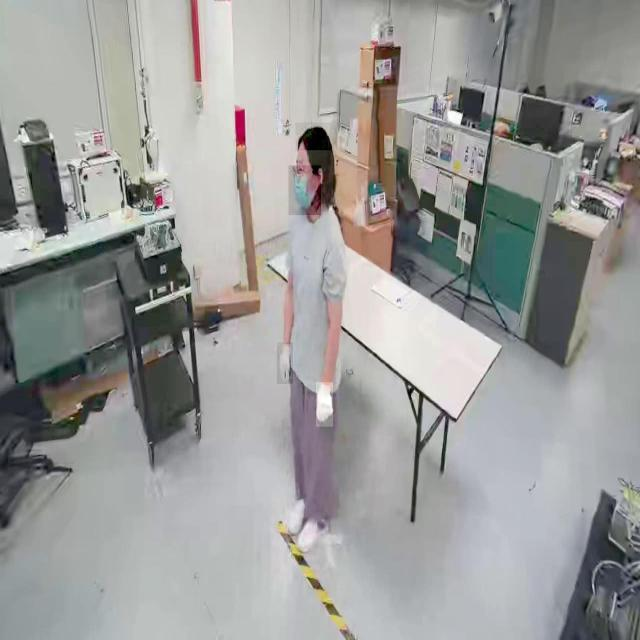face_mask: (289, 165, 321, 215)
hand_glove: (316, 382, 334, 428), (277, 342, 293, 385)
head_nohelmet: (296, 123, 332, 151)
person: (273, 115, 351, 574)
shoes: (294, 509, 333, 557)
